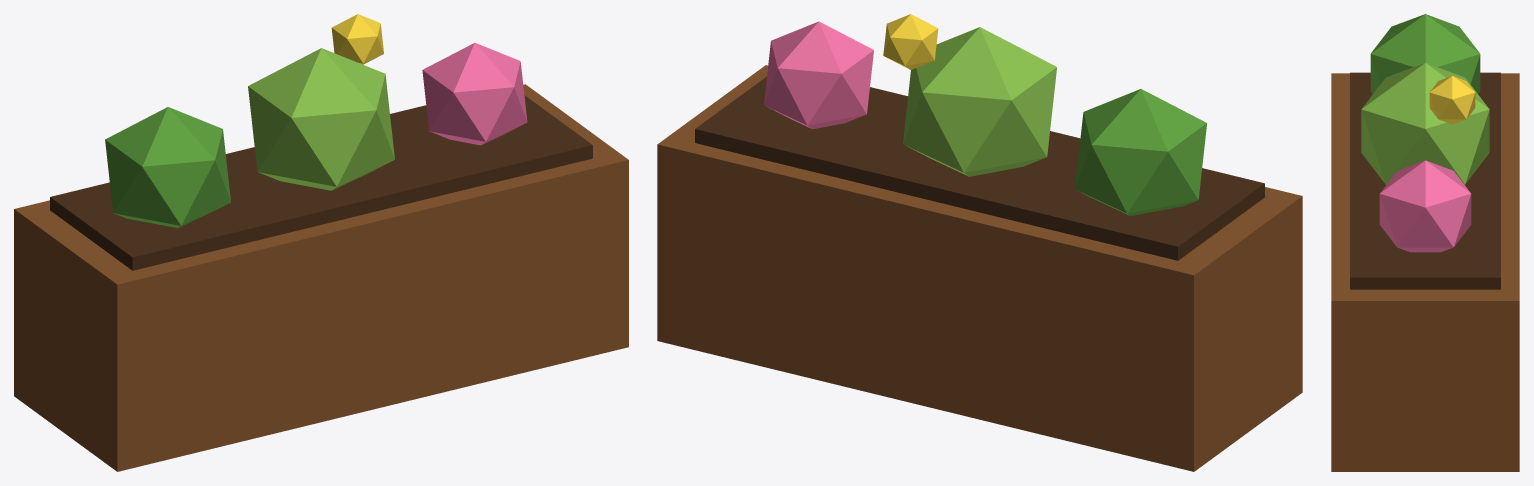
Rendered from patio_planter_box.glb.
The picture shows the model from 3 angles, left to right: view 1: azimuth 30°, elevation 25°; view 2: azimuth 150°, elevation 25°; view 3: azimuth 270°, elevation 25°; orthographic projection. The views are drawn at different scales.
Parts seen in each view (by area): view 1: planter_box; view 2: planter_box; view 3: planter_box.
Part boxes in pixels (x1,y1,x2,y2): planter_box: (14, 14, 628, 471); planter_box: (657, 14, 1302, 471); planter_box: (1331, 14, 1519, 471).
Bounding box in the file's own units: 1 × 0.625 × 0.35.
